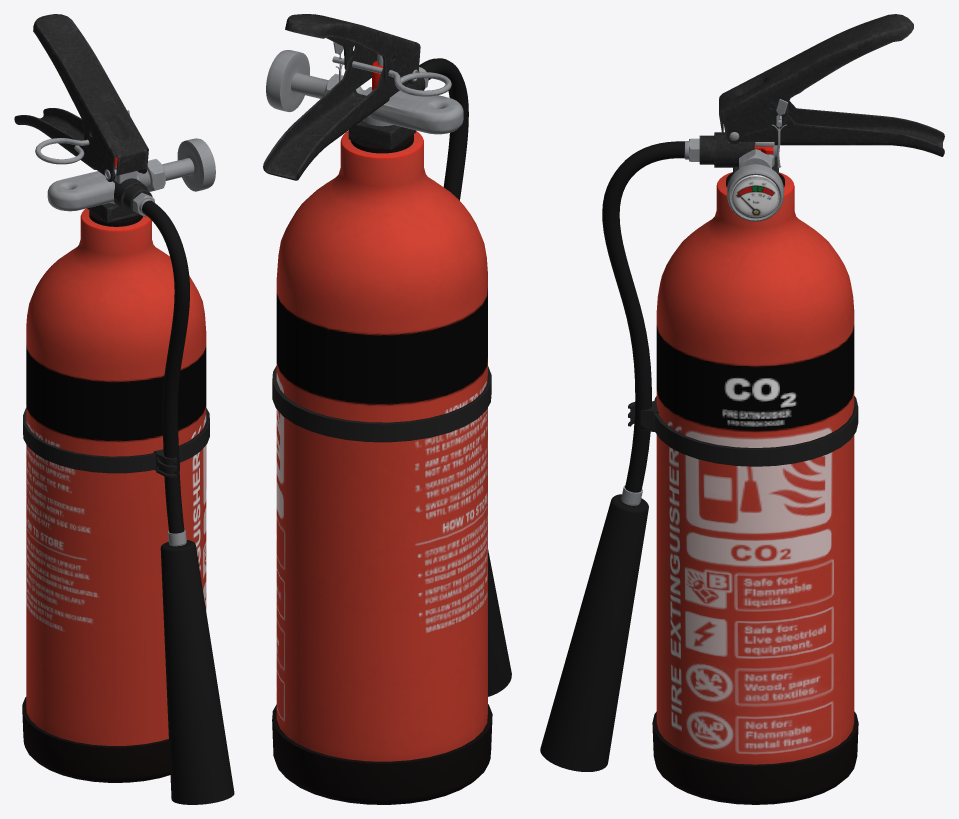
Rendered from CO2_Extinguisher.fbx.
The picture shows the model from 3 angles, left to right: view 1: azimuth 30°, elevation 25°; view 2: azimuth 150°, elevation 25°; view 3: azimuth 270°, elevation 25°; orthographic projection. The views are drawn at different scales.
Parts seen in each view (by area): view 1: CO2_Extinguisher; view 2: CO2_Extinguisher; view 3: CO2_Extinguisher.
Part boxes in pixels (left/top/right/bottom): CO2_Extinguisher: left=14, top=14, right=234, bottom=804; CO2_Extinguisher: left=263, top=14, right=511, bottom=804; CO2_Extinguisher: left=540, top=14, right=944, bottom=804.
Size of the model in its own units: 0.2796 by 1.07 by 0.5261.
